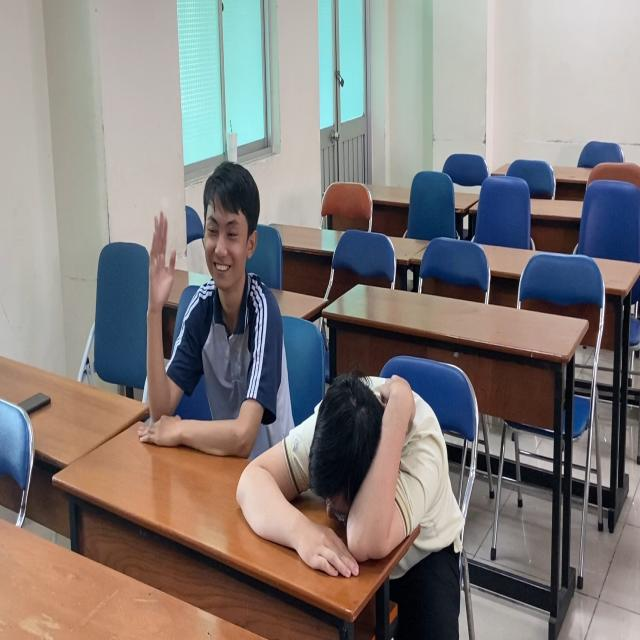raise_hand: (142, 152, 303, 477)
sleep: (236, 363, 471, 617)
